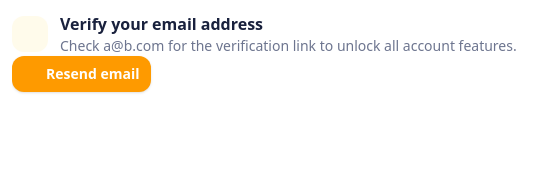
Scenario: EmailVerificationBanner resend › confirms a successful resend and starts the cooldown
Click the button "Resend email" at (82, 74), box [12, 56, 152, 92]
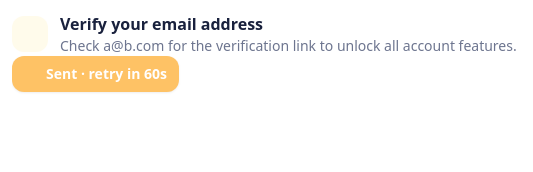
Check: the button "Sent · retry in 60s" is shown, box [12, 56, 179, 92]
